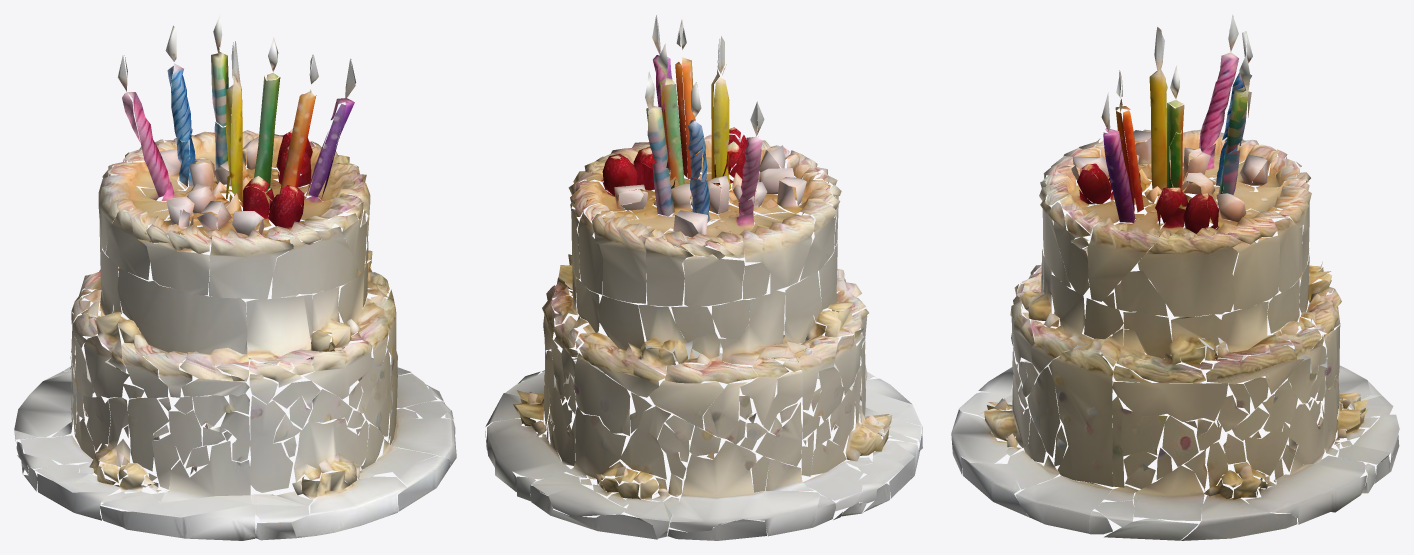
Rendered from payaso.glb.
3 renders of one model, left to right at view 1: azimuth 30°, elevation 25°; view 2: azimuth 150°, elevation 25°; view 3: azimuth 270°, elevation 25°, orthographic.
Visible parts, largest first — view 1: tripo_node_384fb491-9f4a-4bb5-98ac-9a06d353c592; view 2: tripo_node_384fb491-9f4a-4bb5-98ac-9a06d353c592; view 3: tripo_node_384fb491-9f4a-4bb5-98ac-9a06d353c592.
Part boxes in pixels (bbox=[...]): tripo_node_384fb491-9f4a-4bb5-98ac-9a06d353c592: bbox=[14, 14, 456, 540]; tripo_node_384fb491-9f4a-4bb5-98ac-9a06d353c592: bbox=[485, 15, 922, 540]; tripo_node_384fb491-9f4a-4bb5-98ac-9a06d353c592: bbox=[951, 14, 1399, 540].
Size of the model in its own units: 0.9489 by 0.9803 by 0.953.
1 material, 1 textured.
